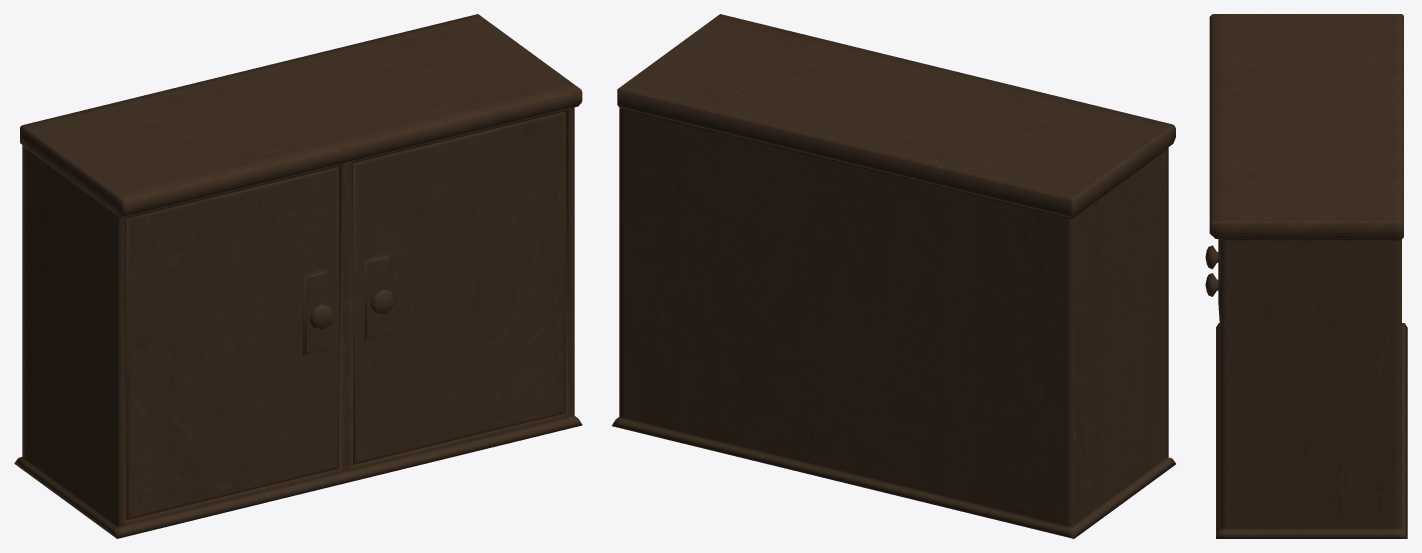
Rendered from floor_cabinet_thin.glb.
3 renders of one model, left to right at view 1: azimuth 30°, elevation 25°; view 2: azimuth 150°, elevation 25°; view 3: azimuth 270°, elevation 25°, orthographic. The views are drawn at different scales.
Parts seen in each view (by area): view 1: FloorCabinetThin; view 2: FloorCabinetThin; view 3: FloorCabinetThin.
Boxes of the visible parts, bbox=[...] form: FloorCabinetThin: bbox=[14, 14, 582, 538]; FloorCabinetThin: bbox=[612, 14, 1175, 538]; FloorCabinetThin: bbox=[1205, 14, 1407, 538].
Bounding box in the file's own units: 0.965 × 0.6719 × 0.3898.
Materials: 2 (2 with a texture image).
